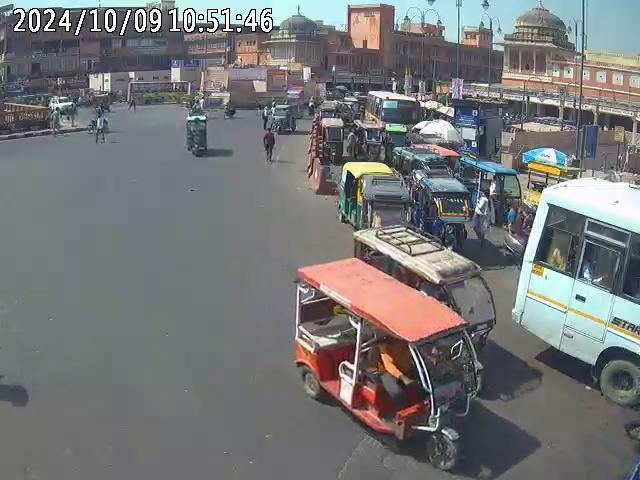auto: (290, 257, 486, 466), (351, 224, 496, 362), (403, 143, 471, 253), (337, 160, 412, 235), (461, 152, 522, 226), (356, 118, 384, 166), (320, 117, 346, 164), (184, 111, 207, 159)
bus: (512, 174, 639, 412), (364, 88, 420, 130), (126, 78, 194, 106)
person: (263, 127, 277, 161), (95, 114, 108, 146)
